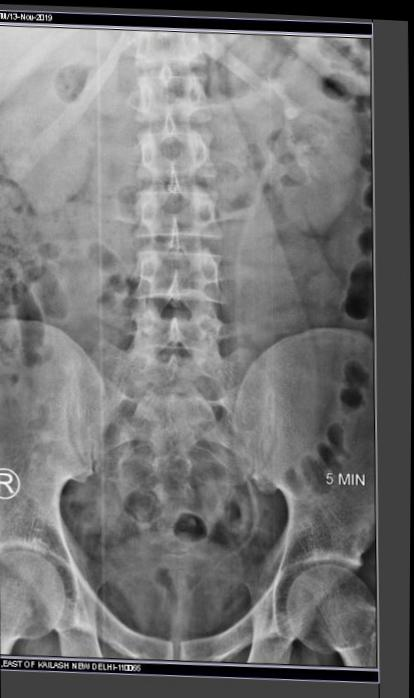left kidney: (278, 32, 395, 229)
vertebrae: (149, 37, 235, 103)
